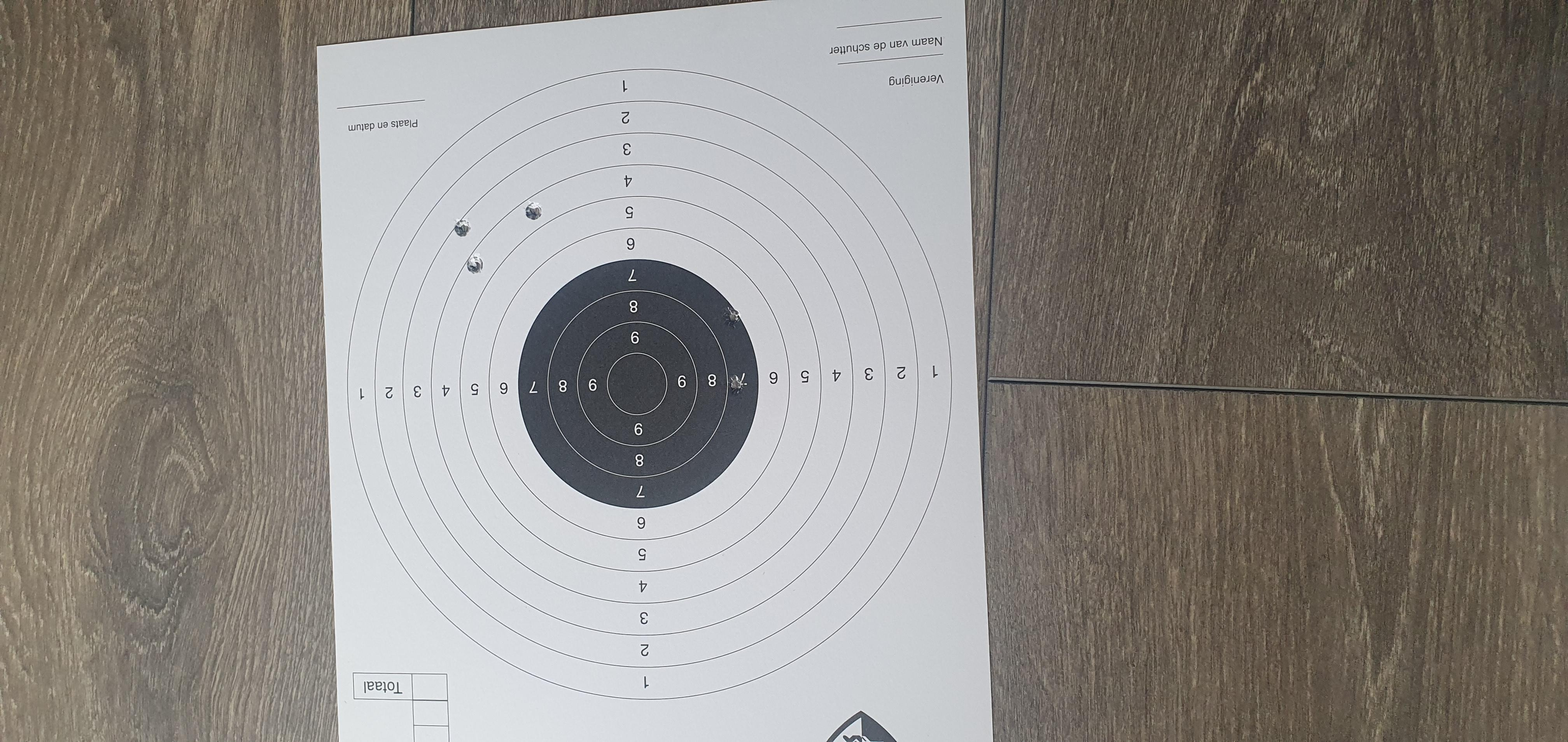hole: (873, 342, 921, 350), (1103, 248, 1142, 257), (988, 221, 1031, 229), (1067, 215, 1106, 223), (733, 345, 776, 352)
